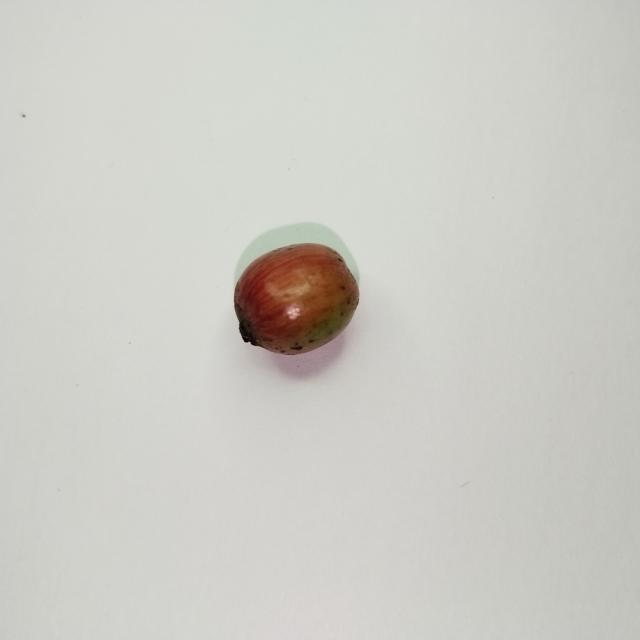Sano: (234, 224, 358, 354)
